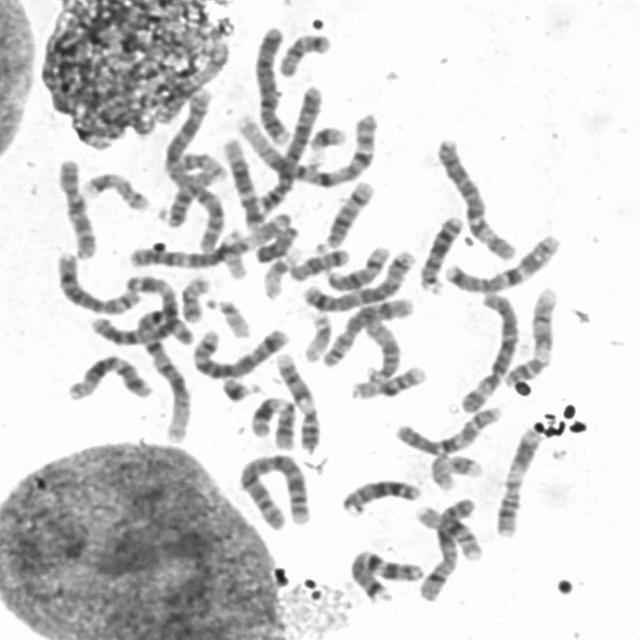A1: (232, 104, 384, 188), (130, 299, 197, 444)
A2: (158, 77, 231, 248), (234, 447, 317, 532)
A3: (124, 206, 299, 270), (86, 268, 190, 348)
B4: (251, 78, 327, 216), (249, 18, 295, 146)
B5: (297, 240, 421, 313), (188, 320, 294, 381)
C10: (391, 397, 509, 457), (51, 150, 102, 260)
C11: (492, 422, 548, 538), (246, 388, 301, 451)
C12: (218, 130, 270, 230), (62, 348, 157, 402)
C6: (431, 130, 522, 262), (455, 284, 524, 414)
C7: (441, 226, 565, 294), (344, 542, 430, 604)
C8: (317, 290, 419, 370), (51, 245, 146, 316)
C9: (500, 280, 564, 388), (270, 347, 326, 453)
D13: (415, 207, 469, 294), (336, 470, 426, 517)
D14: (313, 172, 380, 254), (320, 238, 394, 294)
D15: (155, 162, 222, 228), (357, 309, 405, 384)
E16: (410, 498, 488, 562), (347, 357, 432, 401)
E17: (79, 165, 155, 212), (426, 447, 488, 491)
E18: (274, 24, 336, 78), (285, 240, 354, 282)
F19: (259, 244, 304, 300), (299, 306, 336, 364)
F20: (174, 146, 231, 182), (177, 269, 214, 323)
G21: (302, 117, 352, 155), (216, 369, 266, 403)
G22: (202, 290, 255, 340), (72, 110, 112, 154)
X: (143, 40, 233, 131), (414, 491, 482, 604)
Y: (250, 218, 303, 264)
